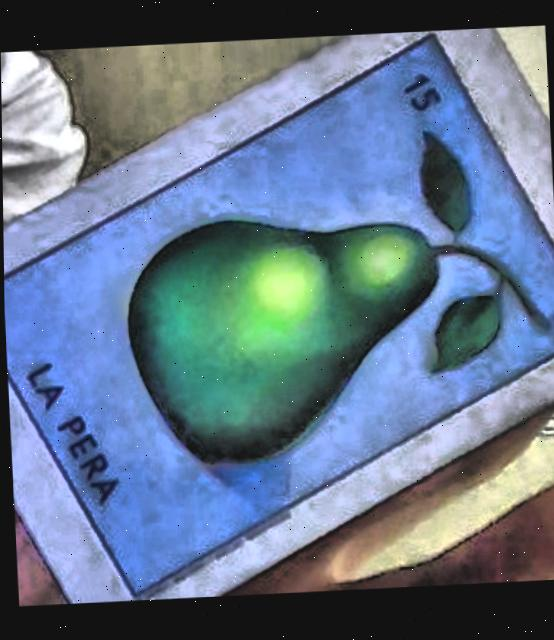La Pera: (3, 37, 554, 599)
